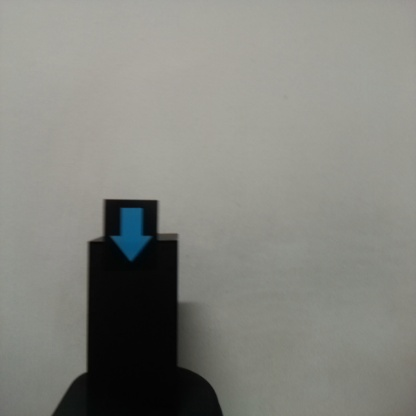id_2: (105, 200, 157, 274)
